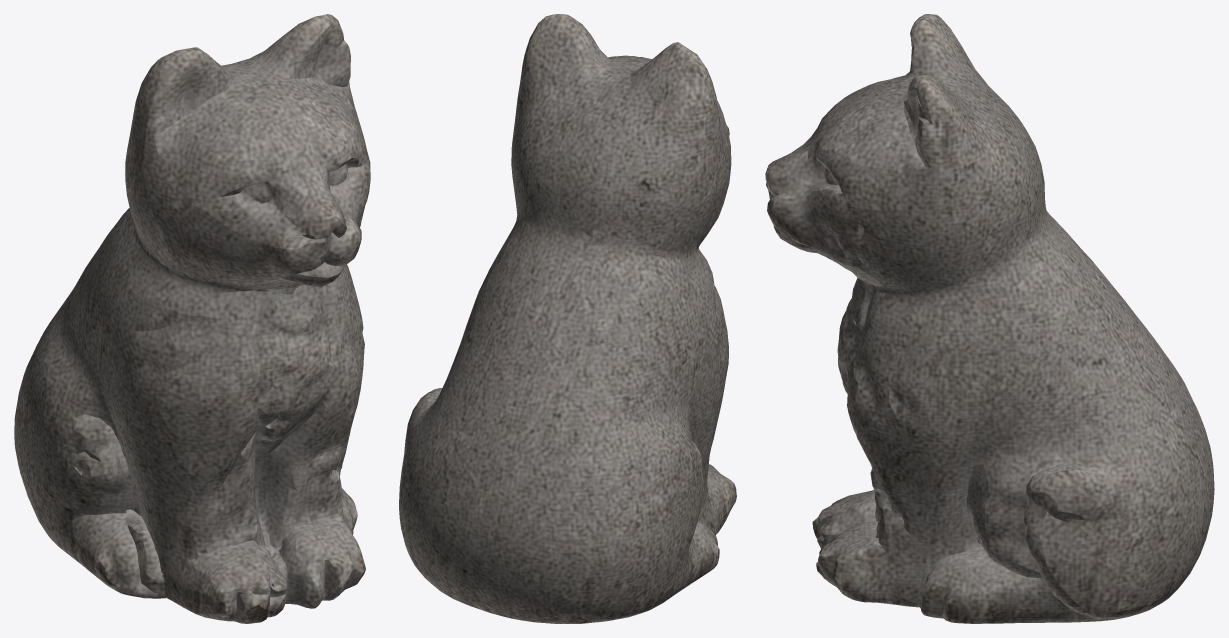
3 renders of one model, left to right at view 1: azimuth 30°, elevation 25°; view 2: azimuth 150°, elevation 25°; view 3: azimuth 270°, elevation 25°, orthographic. The views are drawn at different scales.
Visible parts, largest first — view 1: world; view 2: world; view 3: world.
Boxes of the visible parts, box(x1,y1,x2,y2) form: world: box(14, 14, 370, 623); world: box(399, 14, 736, 623); world: box(765, 14, 1214, 623).
Bounding box in the file's own units: 0.0535 × 0.095 × 0.0732.
1 material, 1 textured.
